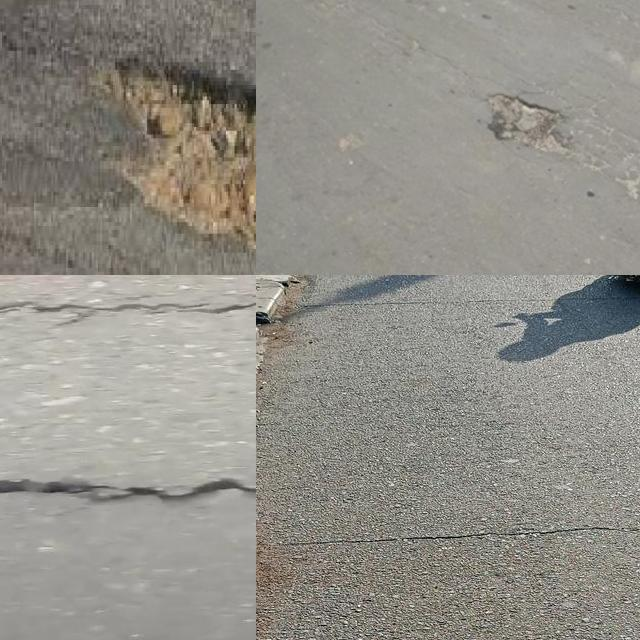Lubang: (114, 59, 256, 243), (482, 97, 579, 155)
Melintang: (256, 512, 640, 559), (0, 285, 256, 330), (0, 469, 256, 514)
